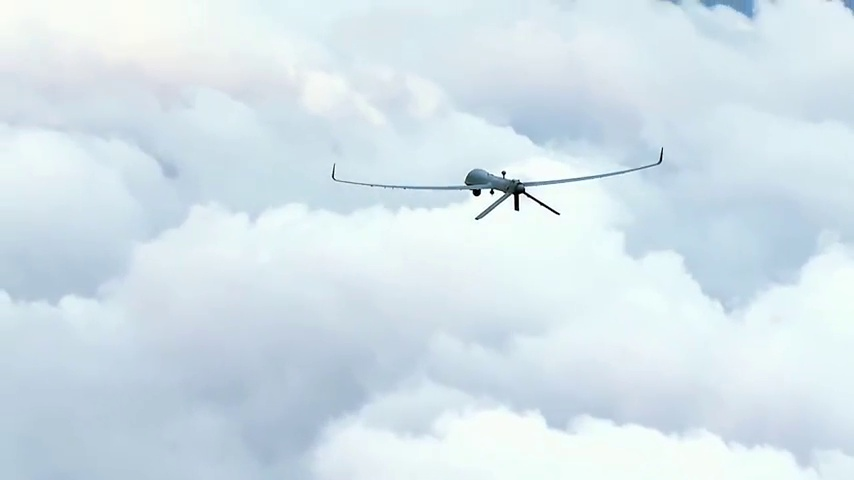military drone: (330, 147, 663, 219)
